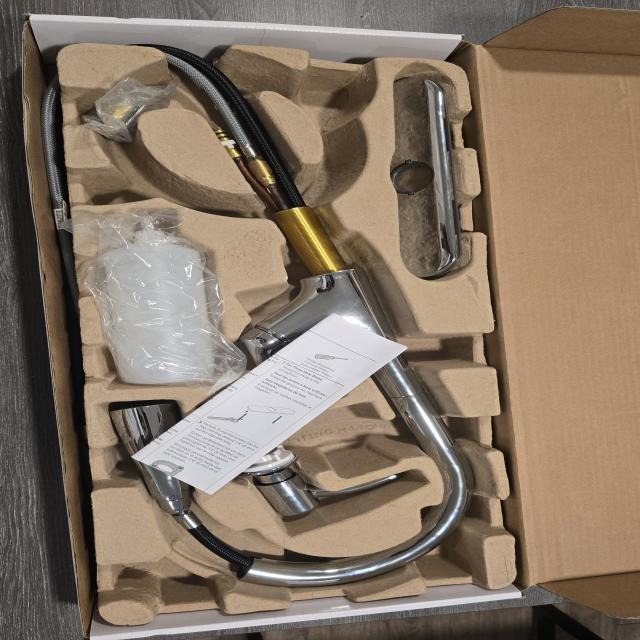1o: (106, 44, 472, 586)
2o: (200, 396, 399, 517)
3: (99, 213, 212, 387)
4: (390, 76, 463, 281)
5m: (303, 72, 369, 123)
6: (78, 75, 178, 145)
7m: (86, 151, 216, 209)
8: (131, 311, 407, 496)
